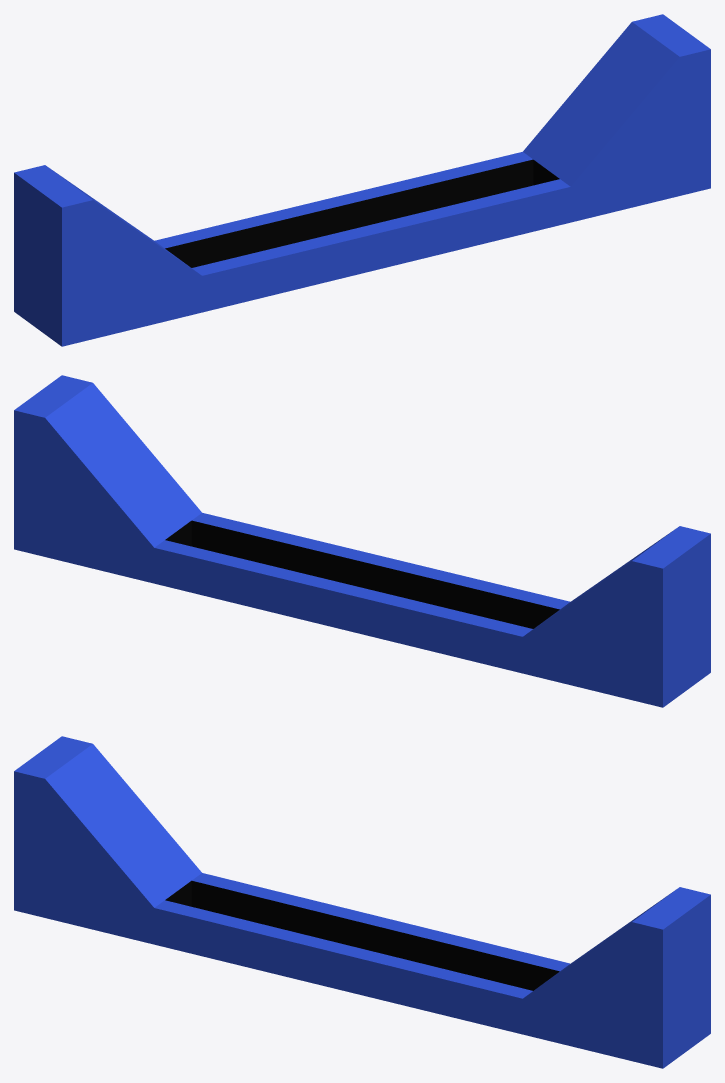
The model's file is BoardBottom.fbx.
3 views of the same model, one above another, from view 1: azimuth 30°, elevation 25°; view 2: azimuth 150°, elevation 25°; view 3: azimuth 330°, elevation 25° (orthographic).
Visible parts, largest first — view 1: Bottom; view 2: Bottom; view 3: Bottom.
Part boxes in pixels (x1,y1,x2,y2): Bottom: [14, 14, 710, 346]; Bottom: [14, 375, 710, 707]; Bottom: [14, 736, 710, 1068].
Bounding box in the file's own units: 94.18 × 19.29 × 12.05.
